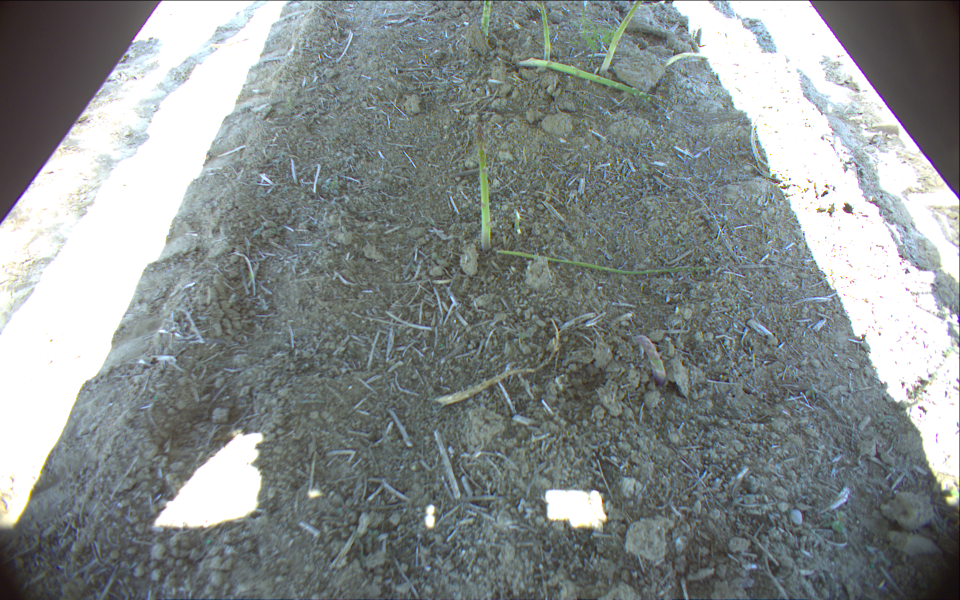aspa: (517, 57, 662, 103), (493, 249, 738, 274), (599, 1, 646, 76), (476, 121, 495, 251), (663, 24, 717, 68), (538, 1, 551, 61), (481, 1, 492, 41)
